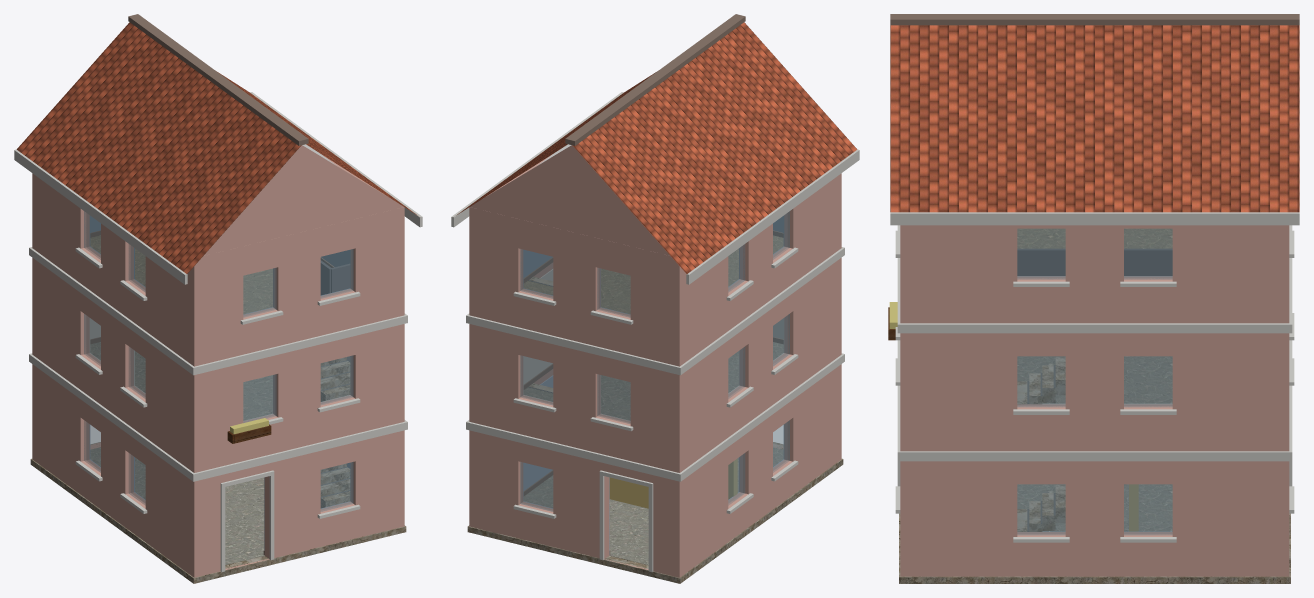
File: cove-house-salmon.coast-v2.lod0.glb
3 views of the same model, side by side, from view 1: azimuth 30°, elevation 25°; view 2: azimuth 150°, elevation 25°; view 3: azimuth 270°, elevation 25° (orthographic). The views are drawn at different scales.
Parts seen in each view (by area): view 1: cove-house-salmon; view 2: cove-house-salmon; view 3: cove-house-salmon.
Part boxes in pixels (bbox=[...]): cove-house-salmon: bbox=[14, 14, 422, 583]; cove-house-salmon: bbox=[451, 14, 859, 583]; cove-house-salmon: bbox=[888, 14, 1299, 583].
Size of the model in its own units: 6.78 by 11.46 by 8.46.
Materials: 6 (4 with a texture image).
